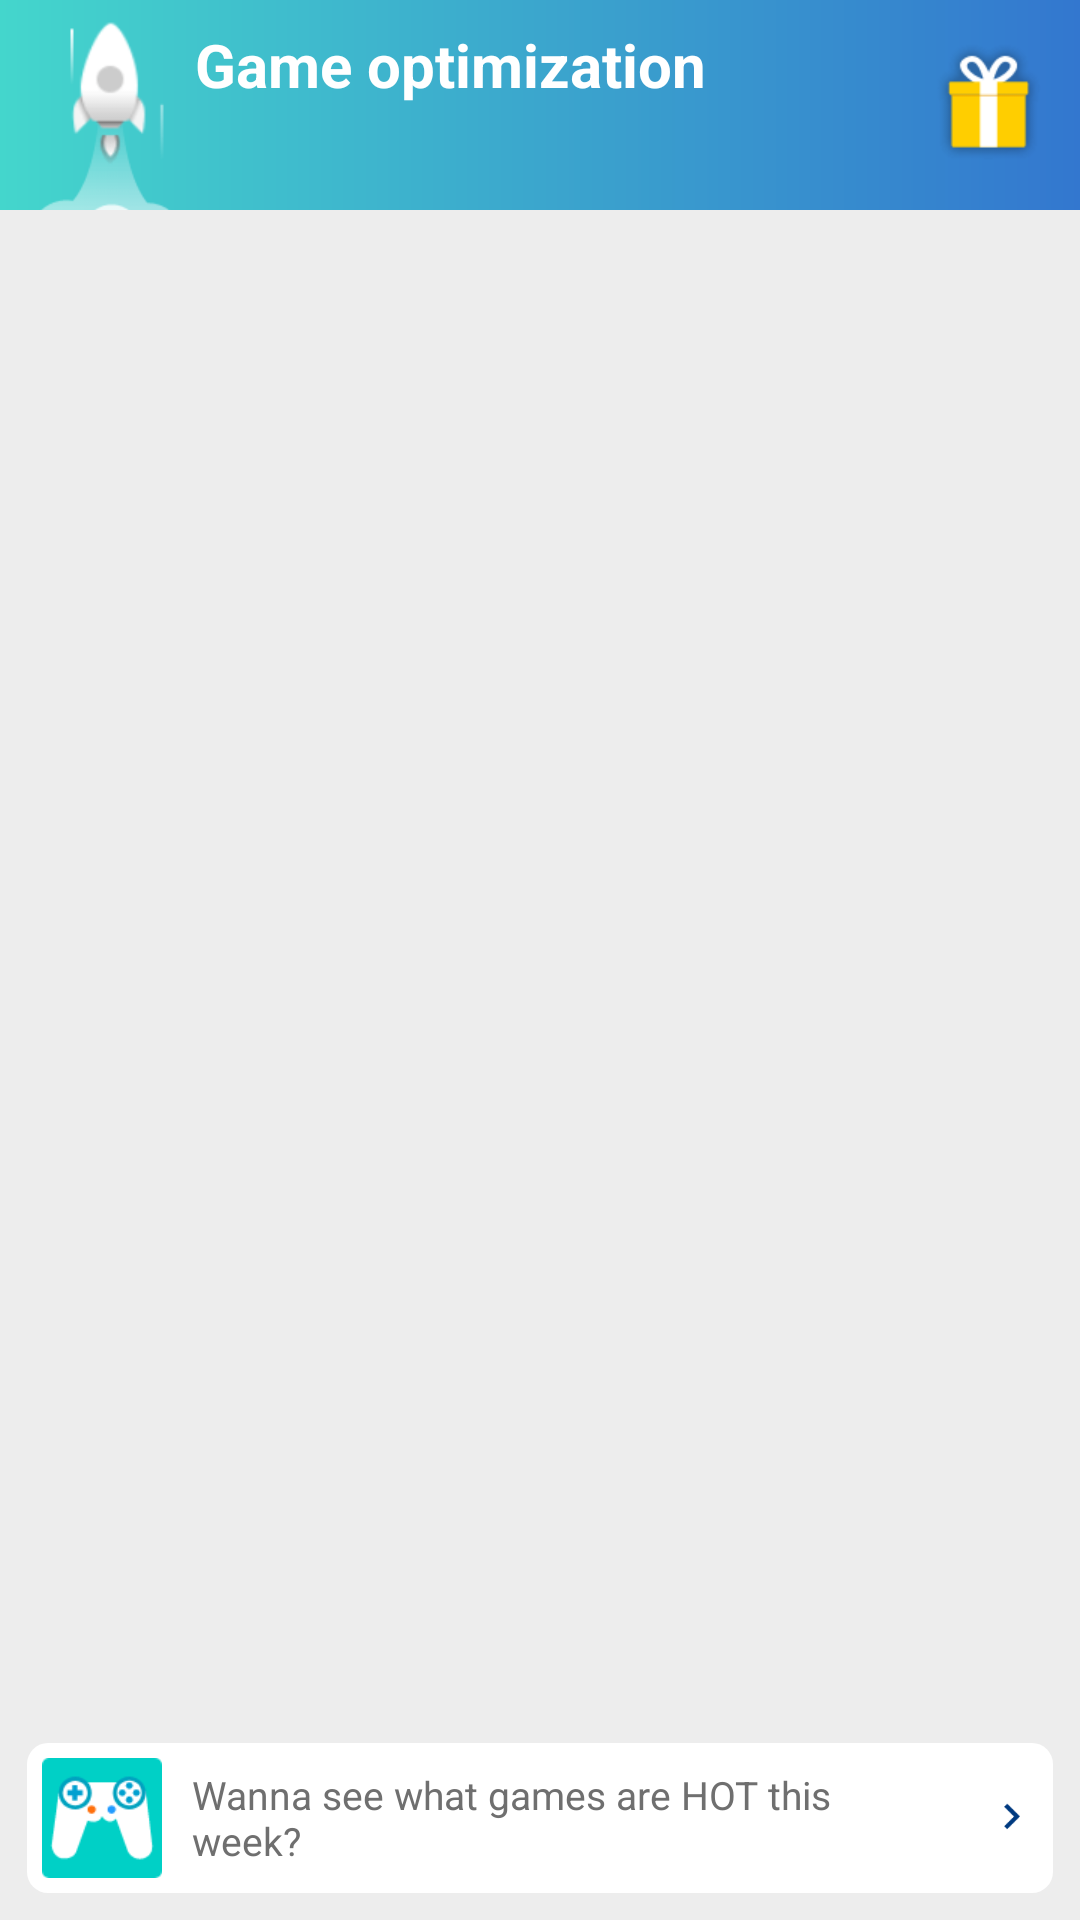

Icons on this 1080 x 1920 Android screen, each with the point to tap as [x,y]:
ad hot game: [102,1818]
ad hot game right: [1012,1816]
shoutcut ad: [988,102]
